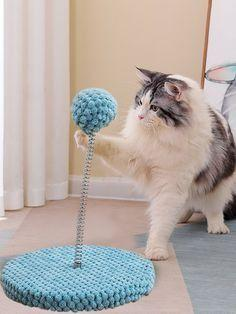kedo: (123, 68, 235, 259)
